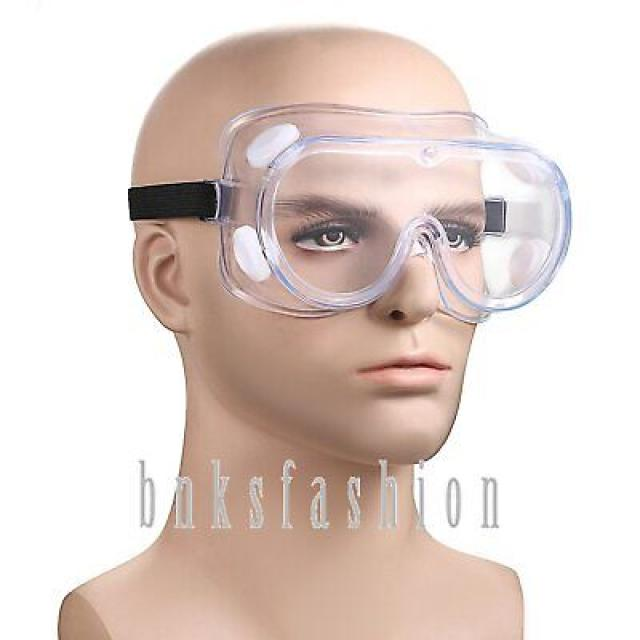goggles_on: (120, 102, 580, 328)
